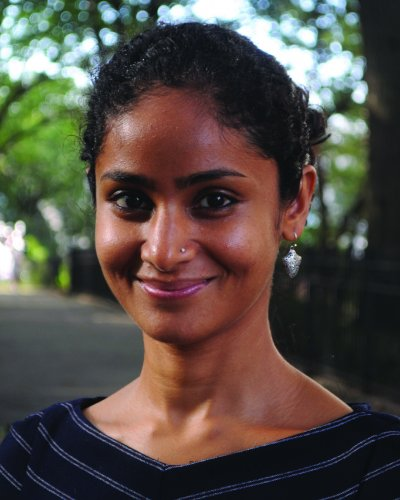person: (80, 21, 318, 381)
